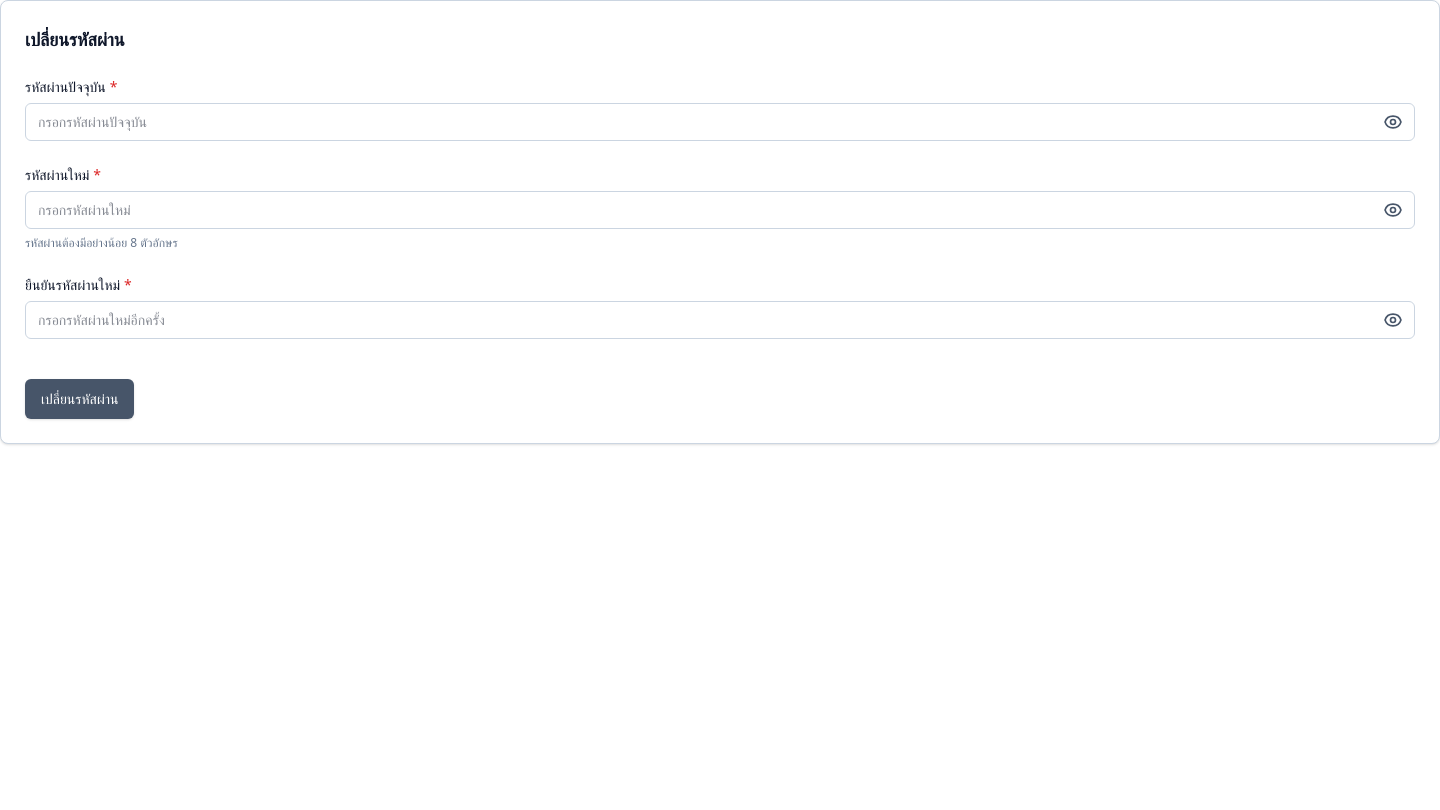
Test case: ChangePasswordForm Component › should update password strength indicator
Type "StrongP@ss123" into the password field with placeholder "กรอกรหัสผ่านใหม่".
click(720, 210); type("StrongP@ss123")  # box 25,191 -> 1415,229
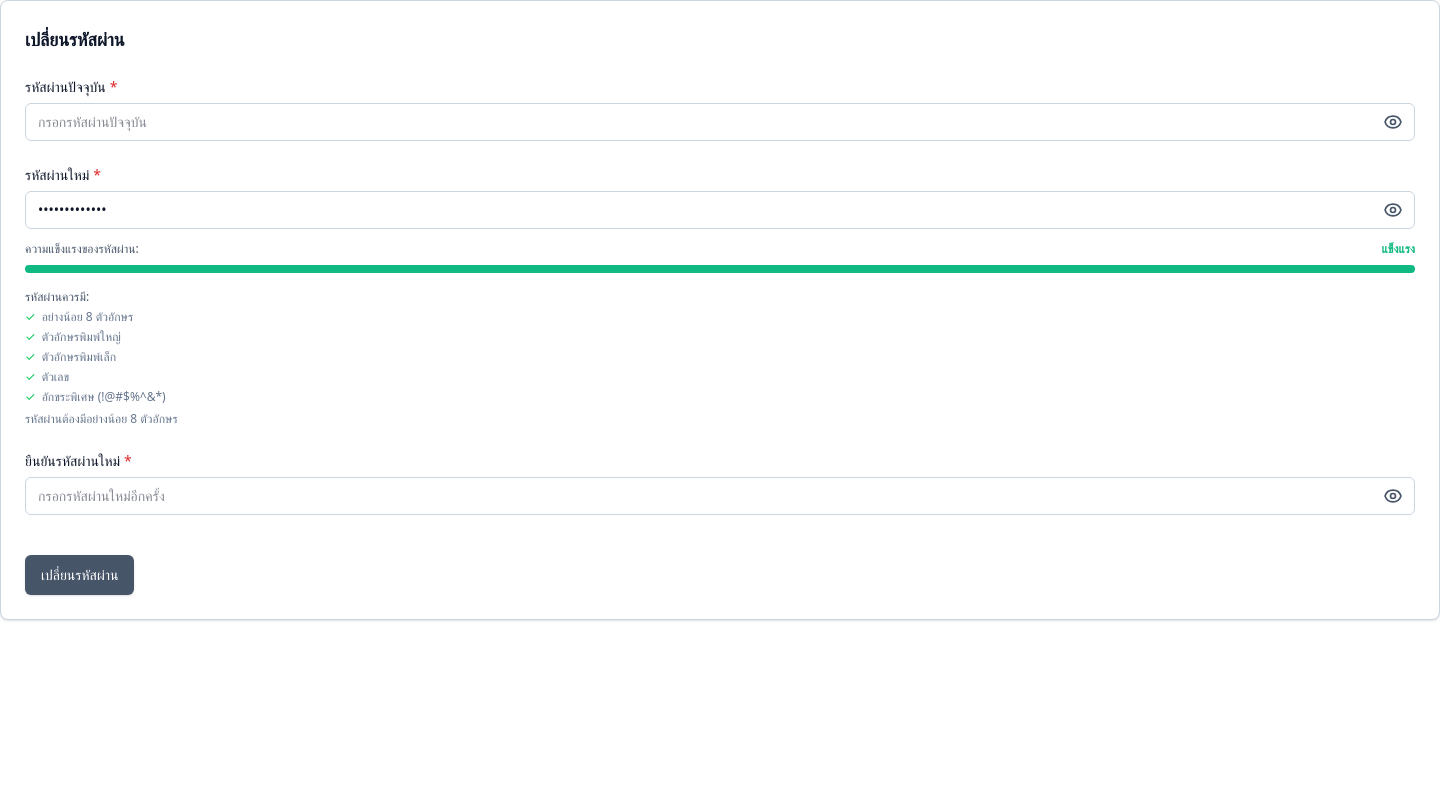
Check: the text "แข็งแรง" is shown, box 1382,241 -> 1415,257
